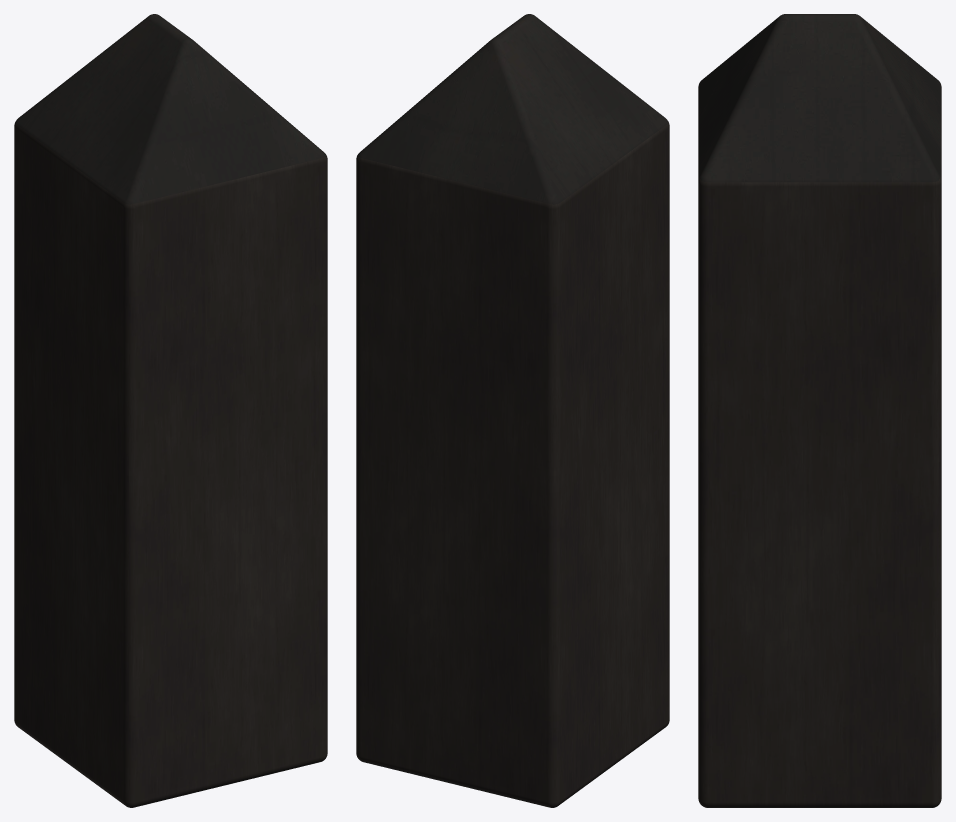
File: king-black-hd.glb
The picture shows the model from 3 angles, left to right: view 1: azimuth 30°, elevation 25°; view 2: azimuth 150°, elevation 25°; view 3: azimuth 270°, elevation 25°; orthographic projection. The views are drawn at different scales.
Visible parts, largest first — view 1: Rez_Kral_cerny; view 2: Rez_Kral_cerny; view 3: Rez_Kral_cerny.
Part boxes in pixels (left/top/right/bottom): Rez_Kral_cerny: left=14, top=14, right=327, bottom=807; Rez_Kral_cerny: left=356, top=14, right=669, bottom=807; Rez_Kral_cerny: left=698, top=14, right=941, bottom=807.
Bounding box in the file's own units: 0.4881 × 1.65 × 0.4881.
Materials: 2 (2 with a texture image).
